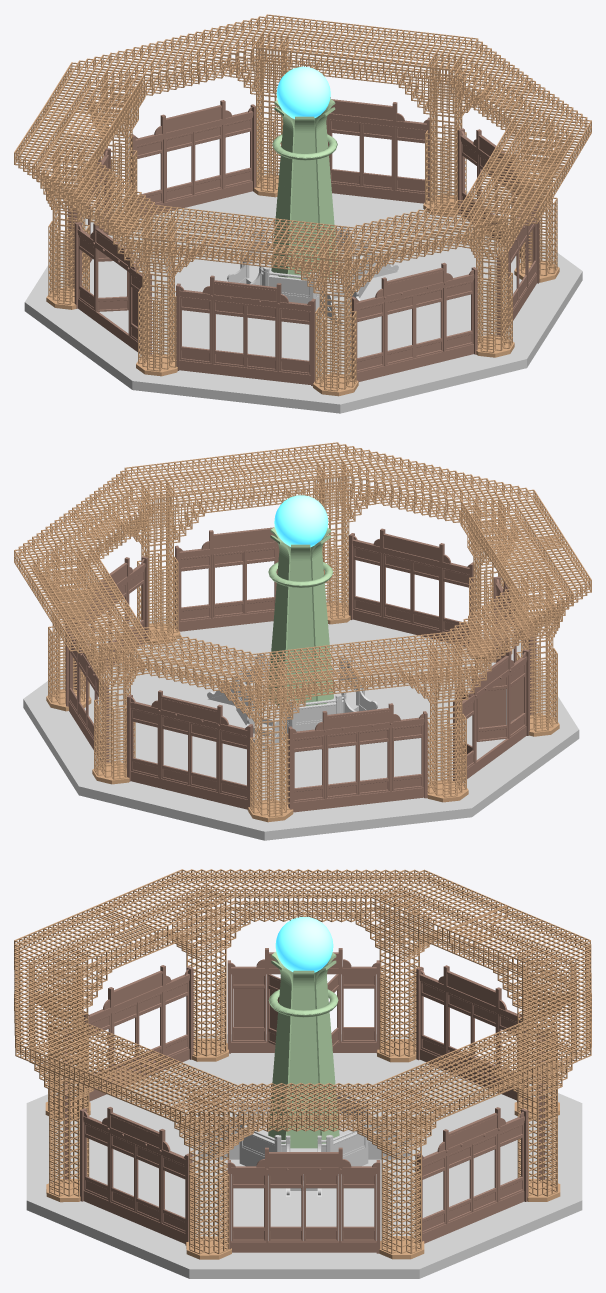
3 renders of one model, top to bottom at view 1: azimuth 30°, elevation 25°; view 2: azimuth 150°, elevation 25°; view 3: azimuth 270°, elevation 25°, orthographic. The views are drawn at different scales.
Parts seen in each view (by area): view 1: Cylinder.006, 020, 020.016, 020.019, 020.012, 020.017, 020.020, 020.018, 020.015, 020.007, 020.006, 020.010 (+9 smaller); view 2: Cylinder.006, 020.018, 020.020, 020.015, 020.012, 020.017, 020.019, 020, 020.016, 020.009, 020.010, 020.006 (+10 smaller); view 3: Cylinder.006, 020.015, 020.020, 020.016, 020.019, 020.012, 020.017, 020.004, 020.018, 020, 020.001, 020.005 (+8 smaller).
Part boxes in pixels (bbox=[...]): Cylinder.006: bbox=[24, 169, 582, 413]; 020: bbox=[232, 213, 437, 396]; 020.016: bbox=[349, 26, 532, 215]; 020.019: bbox=[71, 181, 252, 376]; 020.012: bbox=[409, 157, 564, 357]; 020.017: bbox=[171, 14, 375, 197]; 020.020: bbox=[14, 108, 123, 309]; 020.018: bbox=[43, 39, 199, 234]; 020.015: bbox=[480, 80, 591, 282]; 020.007: bbox=[176, 275, 315, 386]; 020.006: bbox=[350, 262, 477, 381]; 020.010: bbox=[129, 100, 255, 217]; Cylinder.006: bbox=[23, 597, 579, 840]; 020.018: bbox=[169, 640, 373, 822]; 020.020: bbox=[351, 608, 532, 802]; 020.015: bbox=[72, 455, 251, 645]; 020.012: bbox=[230, 442, 433, 624]; 020.017: bbox=[41, 585, 197, 784]; 020.019: bbox=[482, 535, 591, 736]; 020: bbox=[406, 466, 562, 661]; 020.016: bbox=[14, 509, 123, 711]; 020.009: bbox=[288, 703, 427, 812]; 020.010: bbox=[127, 690, 253, 810]; 020.006: bbox=[349, 528, 474, 646]; Cylinder.006: bbox=[26, 1034, 582, 1278]; 020.015: bbox=[99, 1053, 306, 1259]; 020.020: bbox=[303, 869, 506, 1062]; 020.016: bbox=[305, 1052, 510, 1259]; 020.019: bbox=[98, 869, 303, 1061]; 020.012: bbox=[14, 991, 159, 1202]; 020.017: bbox=[448, 991, 591, 1201]; 020.004: bbox=[227, 1147, 380, 1253]; 020.018: bbox=[447, 904, 591, 1119]; 020: bbox=[14, 904, 157, 1120]; 020.001: bbox=[268, 952, 339, 1148]; 020.005: bbox=[80, 1107, 192, 1245].
Bounding box in the file's own units: 0.4022 × 0.1862 × 0.403.
